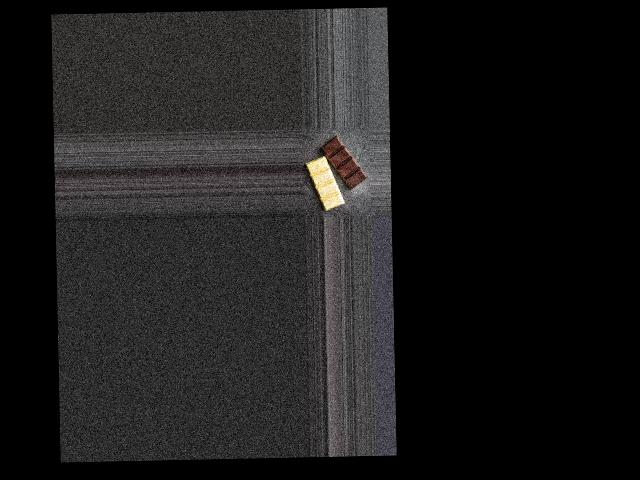chocolate: (305, 135, 366, 214)
